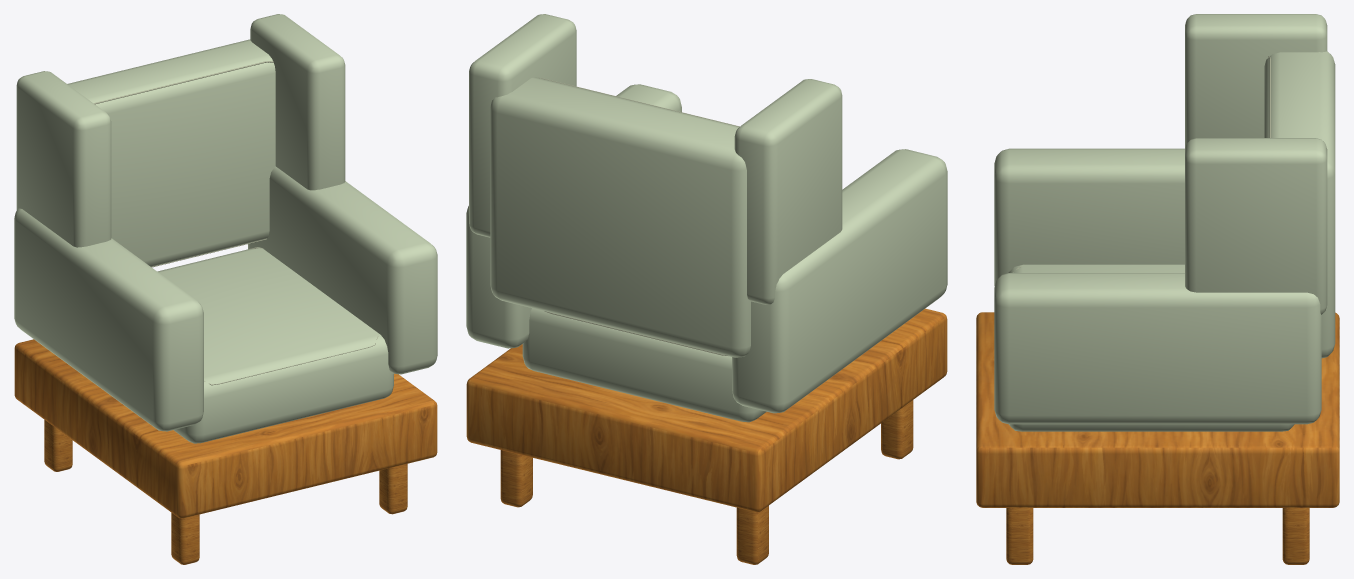
The model's file is wingback-chair.glb.
The picture shows the model from 3 angles, left to right: view 1: azimuth 30°, elevation 25°; view 2: azimuth 150°, elevation 25°; view 3: azimuth 270°, elevation 25°; orthographic projection. The views are drawn at different scales.
Visible parts, largest first — view 1: wingback-chair; view 2: wingback-chair; view 3: wingback-chair.
Part boxes in pixels (x1,y1,x2,y2): wingback-chair: [14, 14, 437, 564]; wingback-chair: [466, 14, 947, 564]; wingback-chair: [976, 14, 1339, 564].
Size of the model in its own units: 0.85 by 1.12 by 0.87.
4 materials, 1 textured.
